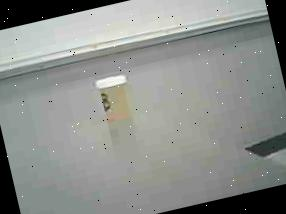Bottle B: (92, 70, 142, 127)
